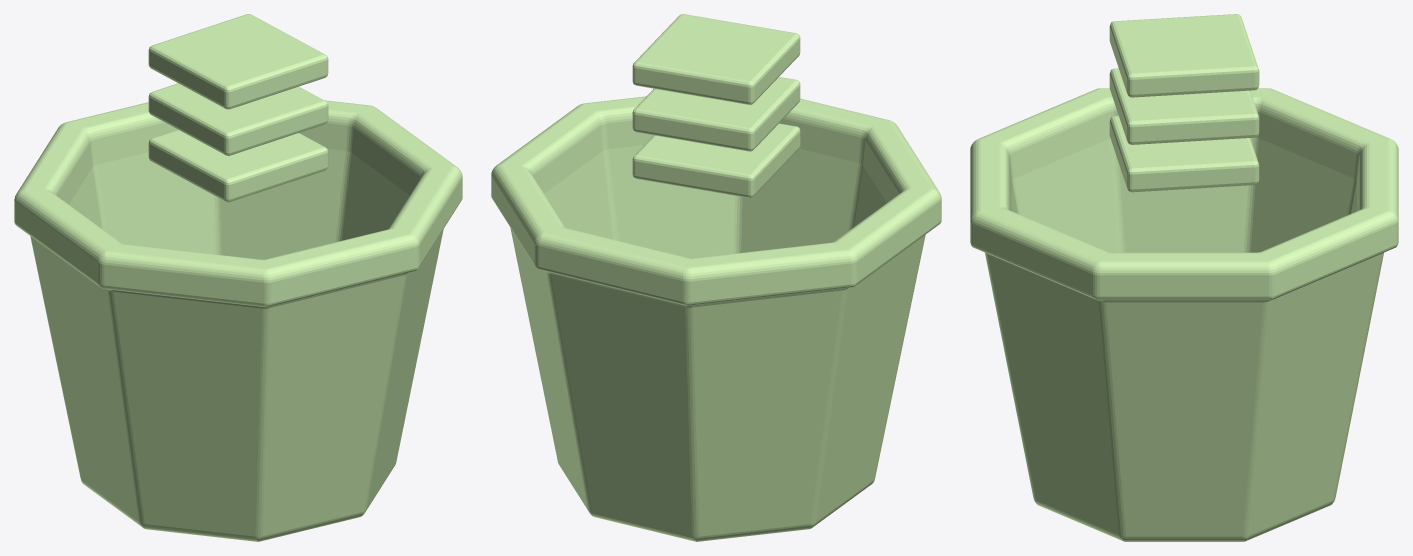
3 renders of one model, left to right at view 1: azimuth 30°, elevation 25°; view 2: azimuth 150°, elevation 25°; view 3: azimuth 270°, elevation 25°, orthographic. The views are drawn at different scales.
Parts seen in each view (by area): view 1: S3 bucket, Stored object 3, Stored object 2, Stored object 1; view 2: S3 bucket, Stored object 3, Stored object 2, Stored object 1; view 3: S3 bucket, Stored object 3, Stored object 2, Stored object 1.
Part boxes in pixels (<box>): S3 bucket: <box>14,100,462,541</box>; Stored object 3: <box>148,14,328,109</box>; Stored object 2: <box>148,83,328,155</box>; Stored object 1: <box>148,130,328,202</box>; S3 bucket: <box>491,96,941,541</box>; Stored object 3: <box>632,14,800,104</box>; Stored object 2: <box>632,77,800,151</box>; Stored object 1: <box>632,123,800,197</box>; S3 bucket: <box>970,88,1398,541</box>; Stored object 3: <box>1109,14,1259,97</box>; Stored object 2: <box>1109,68,1259,144</box>; Stored object 1: <box>1109,115,1259,192</box>.
Size of the model in its own units: 1.89 by 2.14 by 1.89.
